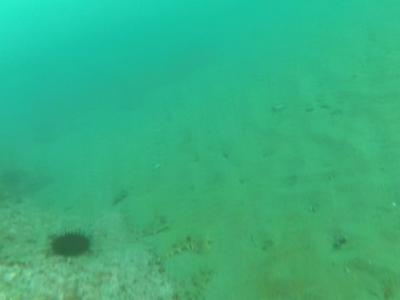holothurian: (152, 235, 210, 264)
urchin: (47, 229, 95, 257)
